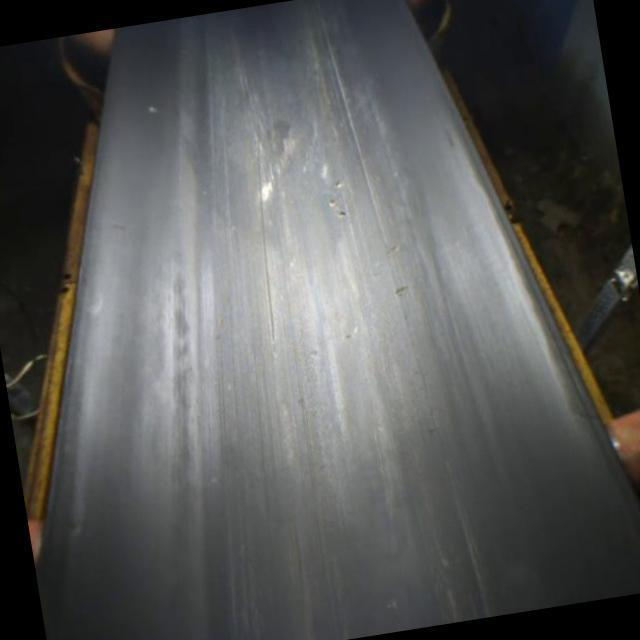Puncture: (327, 196, 338, 208), (338, 210, 350, 219), (335, 179, 343, 189)
